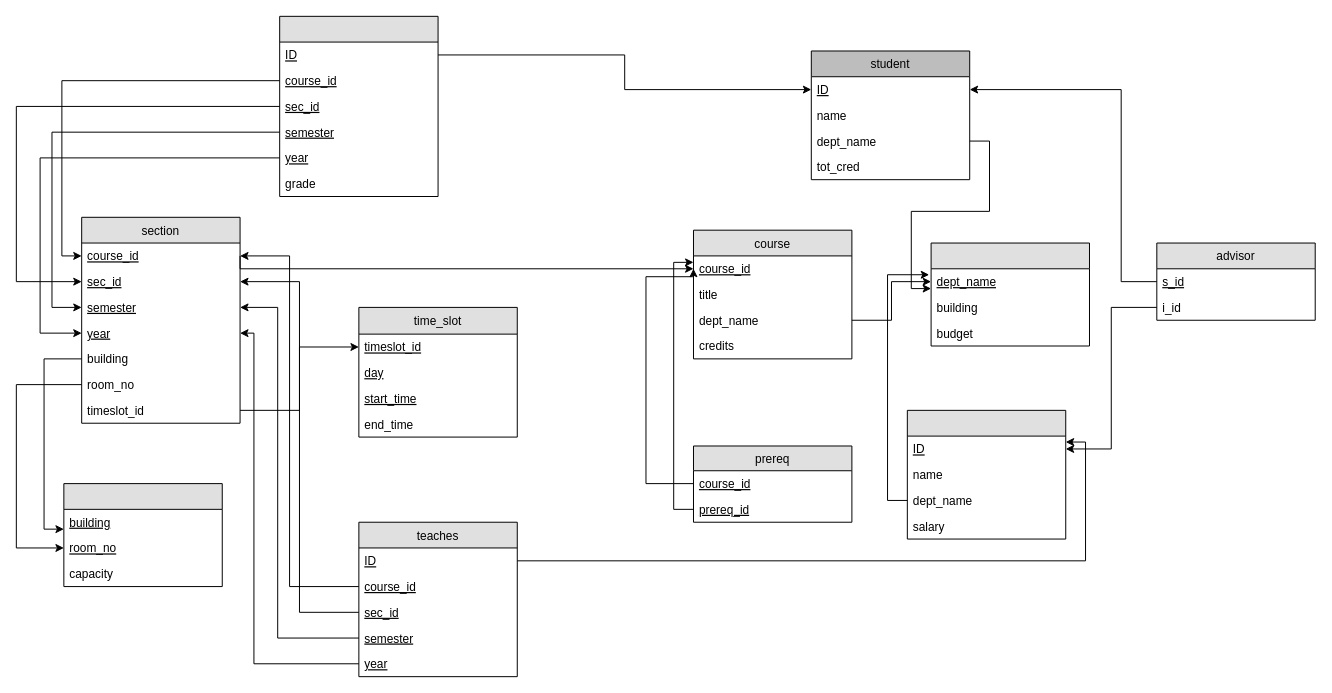
This 1332x693 diagram has some shape labels left out. The shapes that lost their labels are listed below. From the top down, each one's box as (x1, y1, x2, y2) in pixels, then its label:
(279, 15, 438, 197): takes
(930, 242, 1089, 346): department
(906, 409, 1066, 539): instructor
(63, 483, 222, 587): classroom
